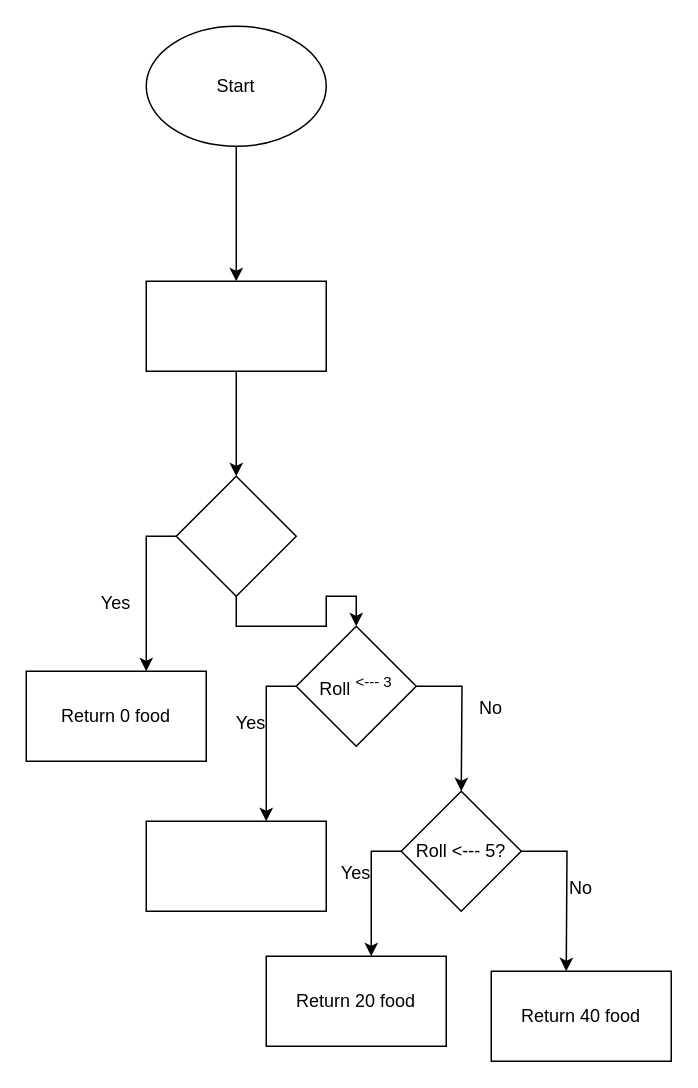
Image size: 698x1088. Some labels were removed from this diagram. The shapes that lost their labels are listed below. From the top down, each one's centre as x and y in pixels, then its label:
the point at 235,325: Roll die
the point at 235,535: Roll = 1?
the point at 235,865: Return 10 food
